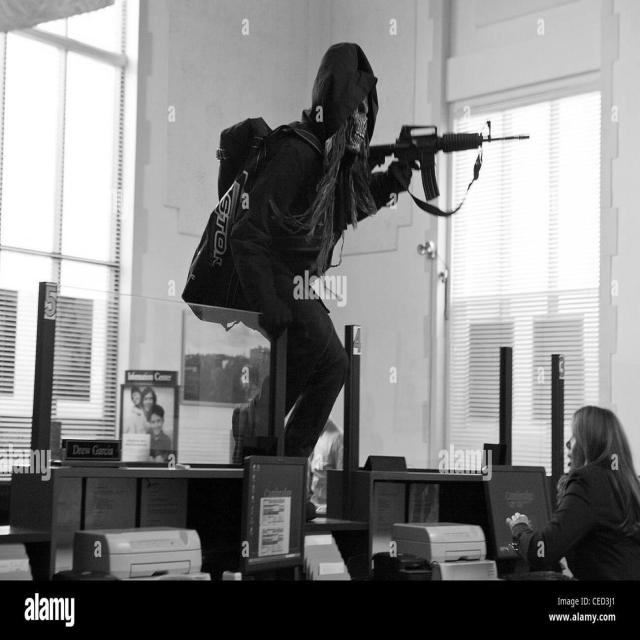gun: (366, 124, 530, 200)
